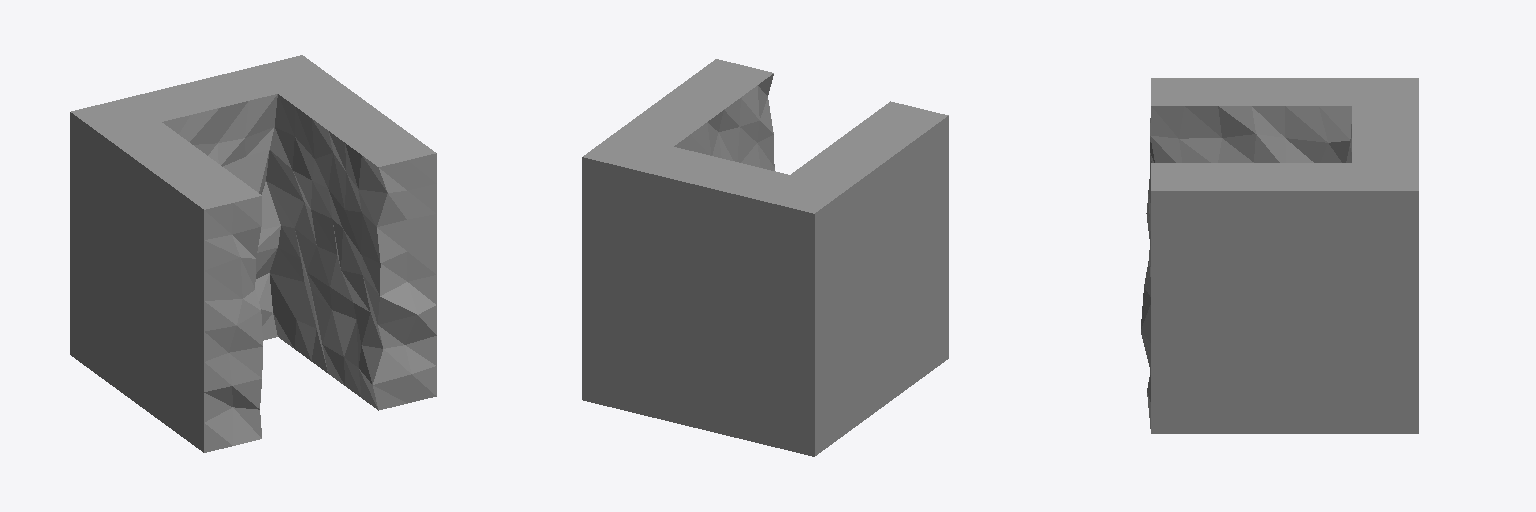
The model's file is straight.obj.
3 views of the same model, side by side, from view 1: azimuth 30°, elevation 25°; view 2: azimuth 150°, elevation 25°; view 3: azimuth 270°, elevation 25° (orthographic).
Visible parts, largest first — view 1: Cube; view 2: Cube; view 3: Cube.
Part boxes in pixels (x1,y1,x2,y2): Cube: (70, 55, 436, 452); Cube: (582, 59, 948, 456); Cube: (1141, 78, 1418, 433).
Size of the model in its own units: 2 by 2 by 2.08.